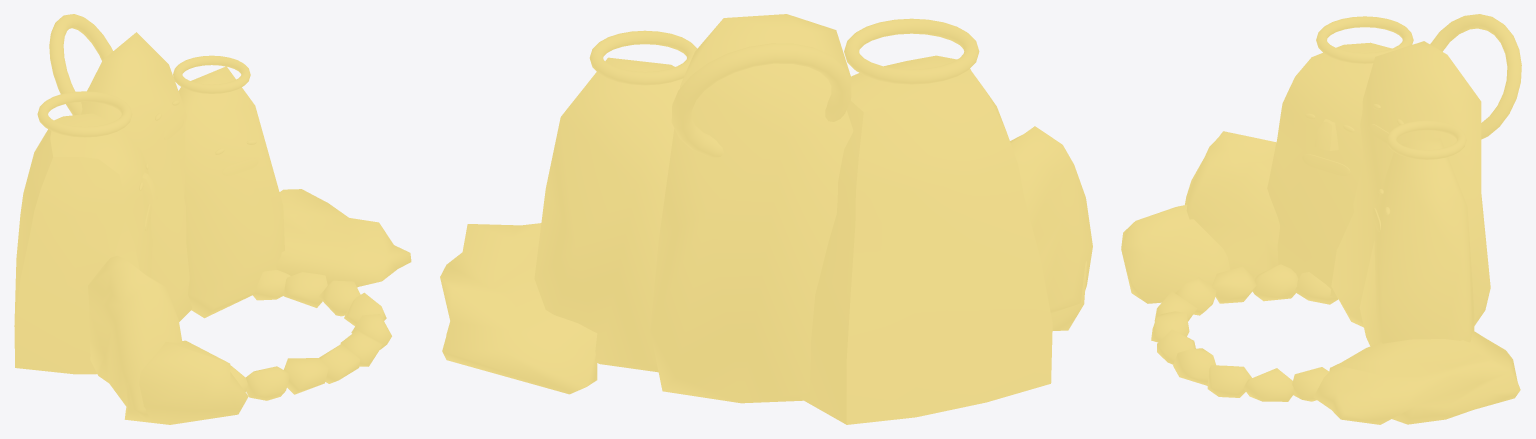
The model's file is clif3angel.fbx.
3 views of the same model, side by side, from view 1: azimuth 30°, elevation 25°; view 2: azimuth 150°, elevation 25°; view 3: azimuth 270°, elevation 25° (orthographic). The views are drawn at different scales.
Visible parts, largest first — view 1: bigbody, smallbody_2, smallbody, decorock2, pebbles, decorock1, decorock3, angelring1, angelring2, angelring3, Capsule_2; view 2: bigbody, smallbody, smallbody_2, decorock1, decorock2, angelring2, angelring1, angelring3, decorock3; view 3: smallbody_2, smallbody, bigbody, decorock1, pebbles, decorock2, decorock3, angelring2, angelring1, angelring3, nose, Capsule_3.
Part boxes in pixels (x1,y1,x2,y2): bigbody: (14,113,152,374); smallbody_2: (178,66,284,318); smallbody: (81,32,192,321); decorock2: (88,255,182,419); pebbles: (230,270,391,400); decorock1: (276,189,411,287); decorock3: (124,340,248,424); angelring1: (37,91,132,137); angelring2: (49,14,112,115); angelring3: (173,55,250,93); Capsule_2: (222,158,258,175); bigbody: (800,55,1052,424); smallbody: (650,14,853,403); smallbody_2: (534,57,682,372); decorock1: (440,223,597,394); decorock2: (1010,126,1092,313); angelring2: (671,43,851,157); angelring1: (844,18,979,84); angelring3: (589,30,697,85); decorock3: (1051,261,1086,330); smallbody_2: (1359,138,1474,346); smallbody: (1331,41,1490,327); bigbody: (1267,42,1391,298); decorock1: (1313,330,1520,424); pebbles: (1151,264,1338,401); decorock2: (1185,131,1279,277); decorock3: (1121,204,1230,303); angelring2: (1430,14,1521,139); angelring1: (1316,16,1413,63); angelring3: (1386,120,1466,159); nose: (1314,119,1338,150); Capsule_3: (1302,154,1350,175).
Bounding box in the file's own units: 928 × 635 × 782.
